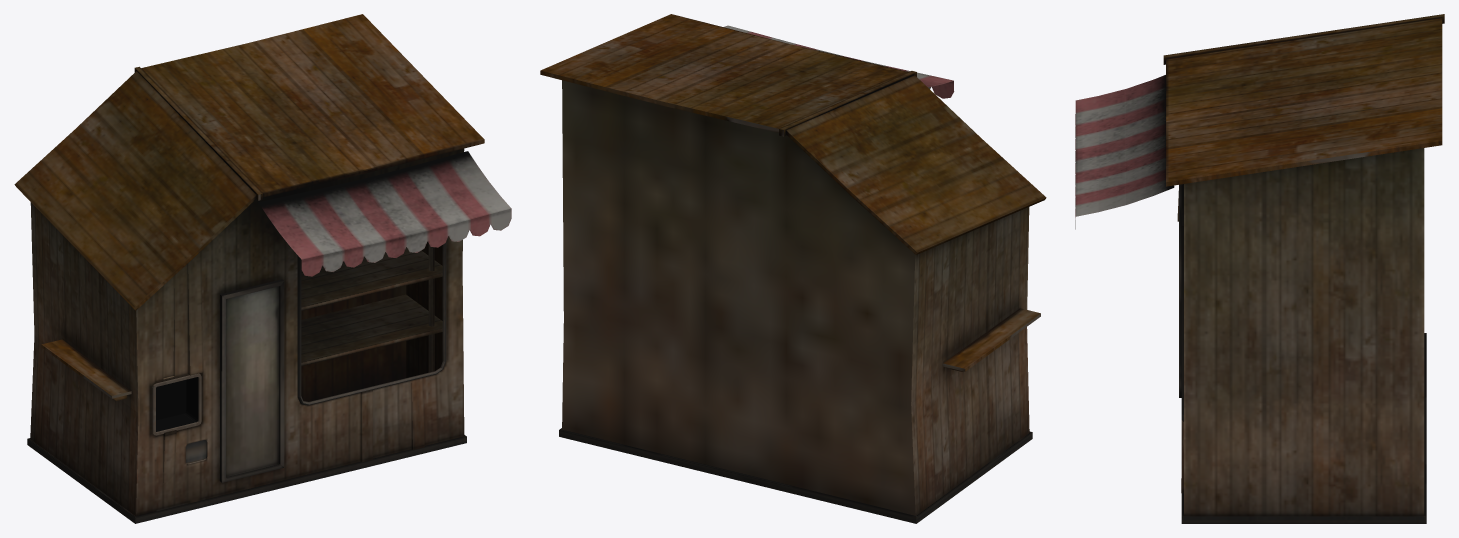
The model's file is SM_ARC_Shop.fbx.
3 renders of one model, left to right at view 1: azimuth 30°, elevation 25°; view 2: azimuth 150°, elevation 25°; view 3: azimuth 270°, elevation 25°, orthographic. The views are drawn at different scales.
Parts seen in each view (by area): view 1: ARC_Shop; view 2: ARC_Shop; view 3: ARC_Shop.
Part boxes in pixels (bbox=[...]): ARC_Shop: bbox=[14, 14, 511, 523]; ARC_Shop: bbox=[540, 14, 1046, 523]; ARC_Shop: bbox=[1075, 14, 1444, 523].
Size of the model in its own units: 285 by 261 by 224.
